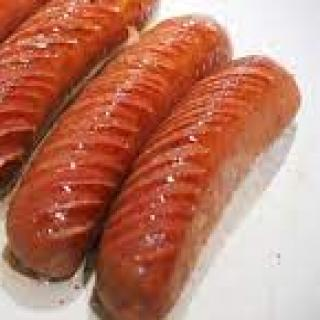sausage: (2, 2, 320, 320)
